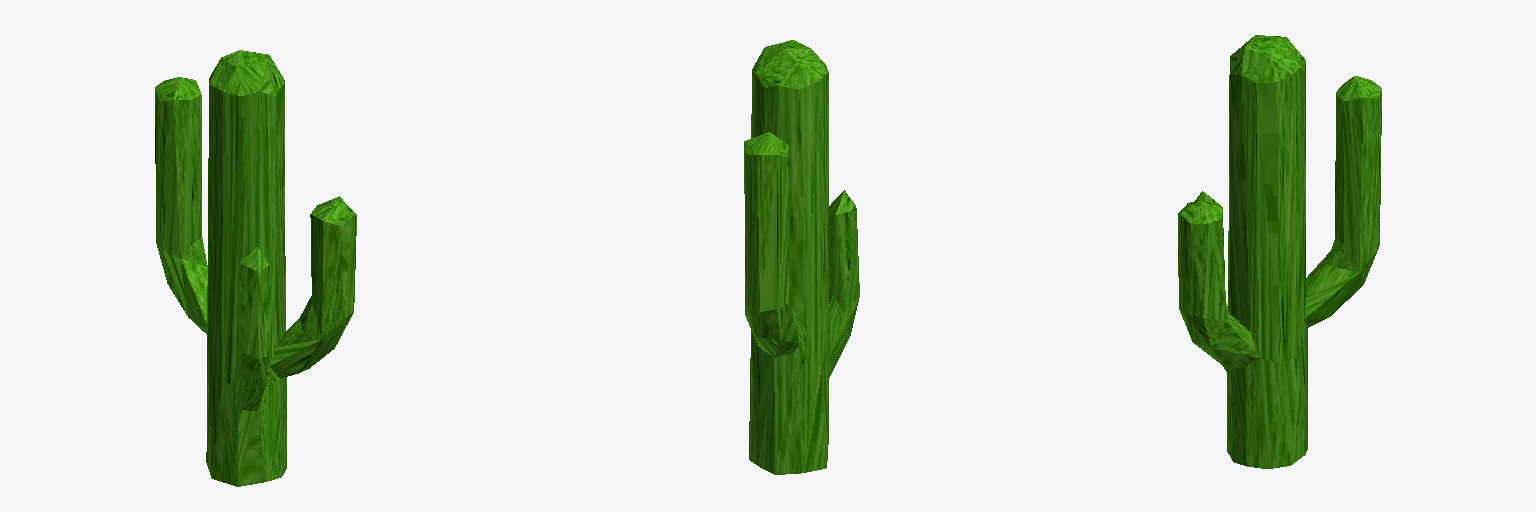
The picture shows the model from 3 angles: view 1: azimuth 30°, elevation 25°; view 2: azimuth 150°, elevation 25°; view 3: azimuth 270°, elevation 25°; orthographic projection.
Visible parts, largest first — view 1: FBXASC232FBXASC131FBXASC182FBXASC229FBXASC155FBXASC138_1_FBXASC2; view 2: FBXASC232FBXASC131FBXASC182FBXASC229FBXASC155FBXASC138_1_FBXASC2; view 3: FBXASC232FBXASC131FBXASC182FBXASC229FBXASC155FBXASC138_1_FBXASC2.
Boxes of the visible parts, box(x1,y1,x2,y2) form: FBXASC232FBXASC131FBXASC182FBXASC229FBXASC155FBXASC138_1_FBXASC2: box(155, 50, 356, 486); FBXASC232FBXASC131FBXASC182FBXASC229FBXASC155FBXASC138_1_FBXASC2: box(744, 40, 859, 474); FBXASC232FBXASC131FBXASC182FBXASC229FBXASC155FBXASC138_1_FBXASC2: box(1178, 35, 1381, 468).
Size of the model in its own units: 3.87 by 13.39 by 5.89.
1 materials, 1 textured.